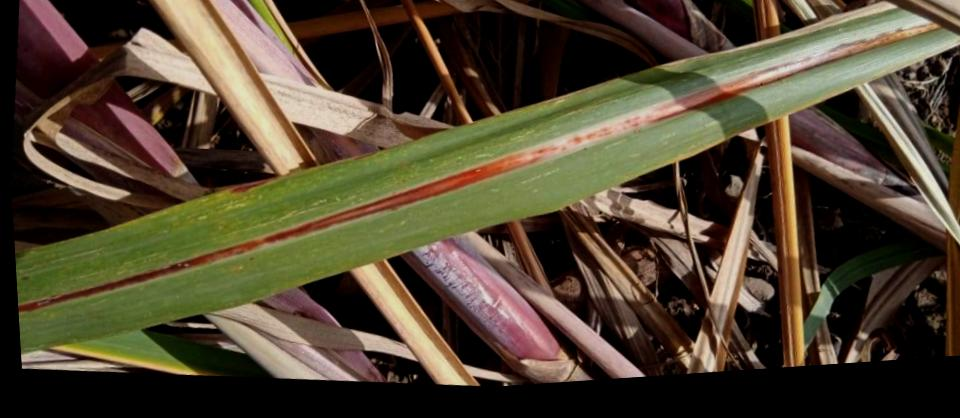RedRot: (18, 20, 946, 314), (228, 176, 280, 194)
